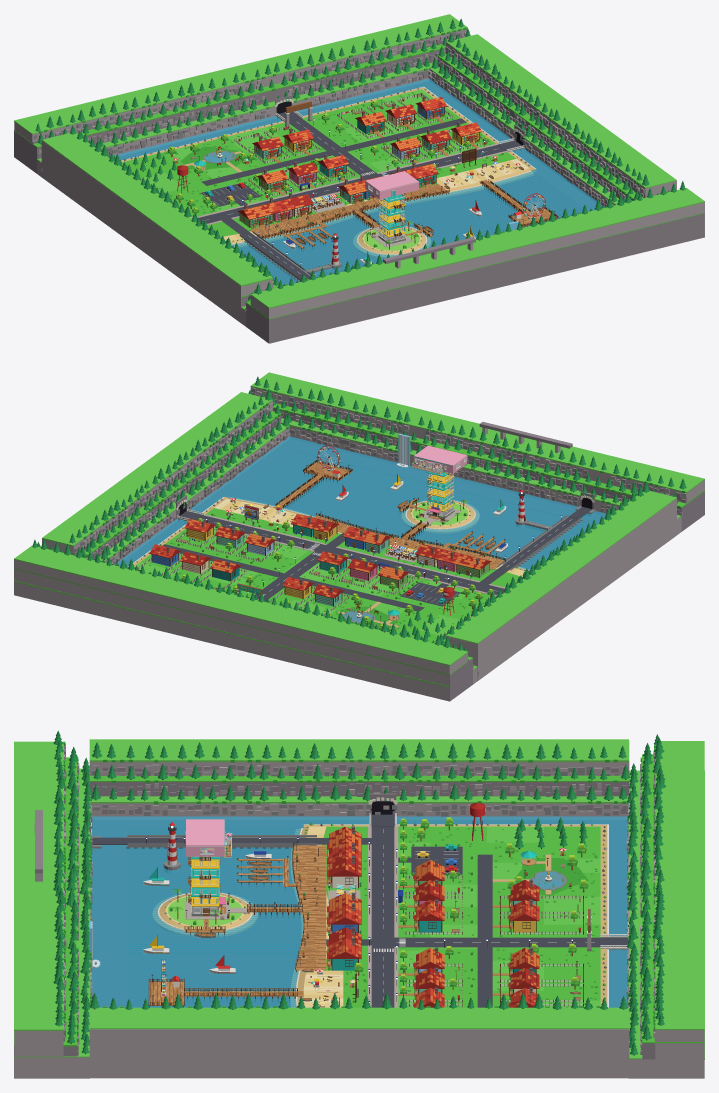
The model's file is MistressFlat3.fbx.
3 renders of one model, top to bottom at view 1: azimuth 30°, elevation 25°; view 2: azimuth 150°, elevation 25°; view 3: azimuth 270°, elevation 25°, orthographic. The views are drawn at different scales.
Parts seen in each view (by area): view 1: View_StoneDark_0_1_00, View_CliffDark_0_-2_00, View_Grass2_0_4_00, View_Grass2_0_-2_00, View_Cliff_-3_1_00, View_Grass2_3_1_00, View_Grass2_-3_1_00, View_Cliff_0_-2_00, View_Cliff_0_4_00, View_Water_1_0_00, View_CliffDark_0_4_00, View_Water_-1_0_00 (+47 smaller); view 2: View_StoneDark_0_1_00, View_Cliff_0_4_00, View_Grass2_0_4_00, View_Grass2_0_-2_00, View_Cliff_-3_1_00, View_Grass2_3_1_00, View_Grass2_-3_1_00, View_Cliff_0_-2_00, View_Water_1_0_00, View_Water_0_-1_00, View_Water_-1_0_00, View_Water_0_0_00 (+40 smaller); view 3: View_StoneDark_0_1_00, View_Cliff_3_1_00, View_Grass2_0_4_00, View_Grass2_0_-2_00, View_Grass2_3_1_00, View_Grass2_-3_1_00, View_Water_1_0_00, View_Cliff_-2_1_00, View_Water_0_-1_00, View_Water_0_0_00, View_Water_-1_0_00, View_Water_-2_1_00 (+94 smaller).
Part boxes in pixels (x1,y1,x2,y2): View_StoneDark_0_1_00: (119,81,601,285); View_CliffDark_0_-2_00: (246,213,704,343); View_Grass2_0_4_00: (14,14,467,162); View_Grass2_0_-2_00: (241,188,704,309); View_Cliff_-3_1_00: (41,140,272,322); View_Grass2_3_1_00: (429,34,676,204); View_Grass2_-3_1_00: (42,133,272,286); View_Cliff_0_-2_00: (241,202,704,343); View_Cliff_0_4_00: (14,28,467,176); View_Water_1_0_00: (414,185,544,237); View_CliffDark_0_4_00: (14,48,445,173); View_Water_-1_0_00: (266,218,390,276); View_StoneDark_0_1_00: (119,439,605,569); View_Cliff_0_4_00: (14,559,477,701); View_Grass2_0_4_00: (14,545,477,687); View_Grass2_0_-2_00: (250,372,704,518); View_Cliff_-3_1_00: (446,498,676,680); View_Grass2_3_1_00: (42,392,289,561); View_Grass2_-3_1_00: (446,491,676,643); View_Cliff_0_-2_00: (250,387,704,534); View_Water_1_0_00: (274,461,411,524); View_Water_0_-1_00: (294,441,606,524); View_Water_-1_0_00: (427,498,562,559); View_Water_0_0_00: (351,480,486,542); View_StoneDark_0_1_00: (92,820,627,1007); View_Cliff_3_1_00: (89,1029,629,1078); View_Grass2_0_4_00: (629,741,704,1059); View_Grass2_0_-2_00: (14,741,90,1057); View_Grass2_3_1_00: (89,1007,629,1029); View_Grass2_-3_1_00: (89,739,628,761); View_Water_1_0_00: (127,950,299,999); View_Cliff_-2_1_00: (90,765,628,819); View_Water_0_-1_00: (91,828,127,1007); View_Water_0_0_00: (127,900,303,950); View_Water_-1_0_00: (127,850,298,900); View_Water_-2_1_00: (92,816,627,828).
Bounding box in the file's own units: 723 × 101 × 731.
